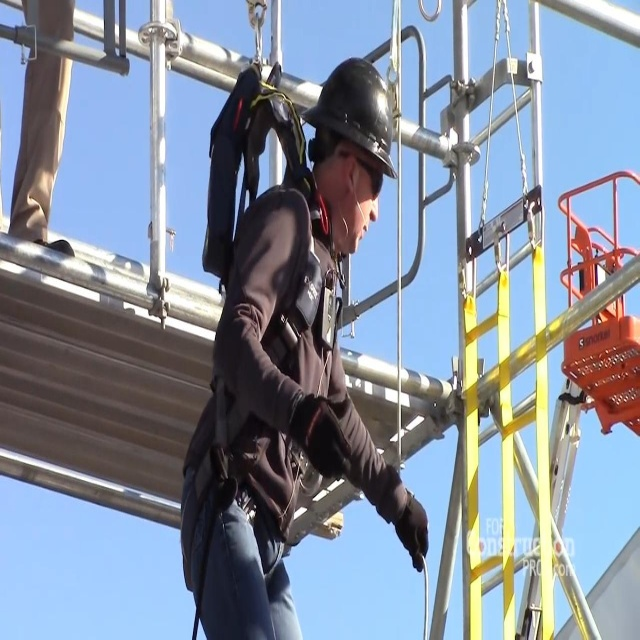Arnes_seguridad: (168, 53, 334, 598)
